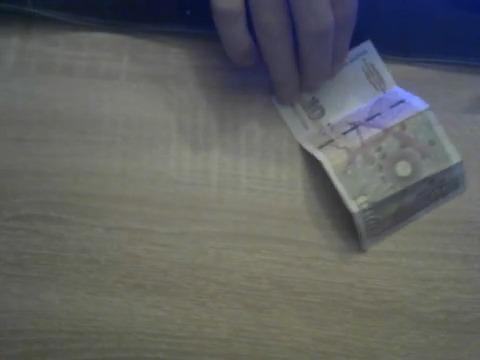10leva: (272, 41, 466, 254)
